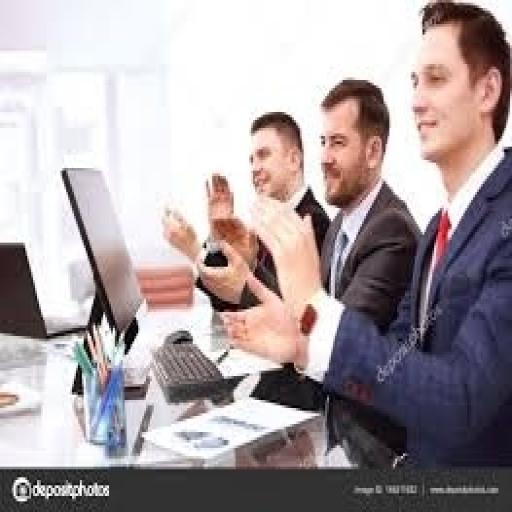clapping: (218, 0, 510, 469), (89, 52, 452, 402), (134, 55, 333, 372)
